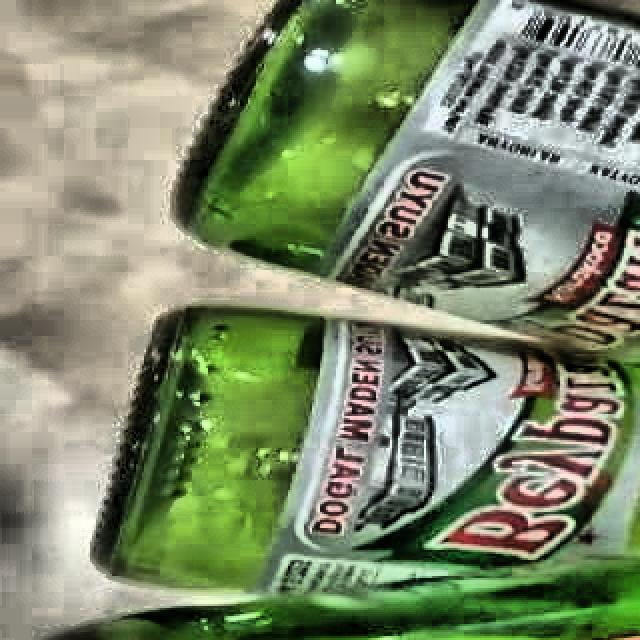glass: (55, 308, 640, 640), (176, 0, 640, 358)
